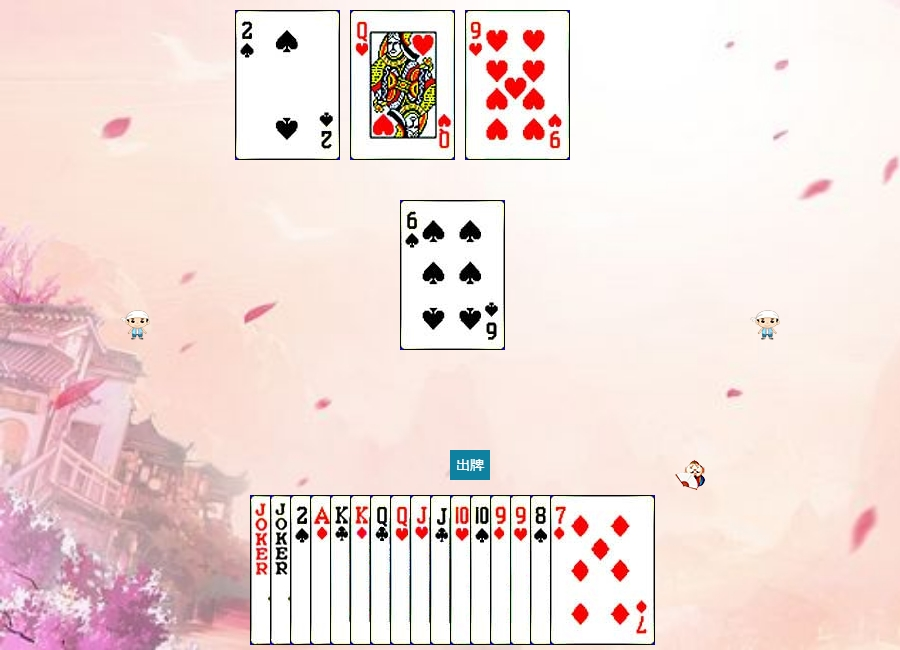10~3: (450, 495, 555, 645)
10~4: (470, 495, 575, 645)
11~2: (430, 495, 535, 645)
11~3: (410, 495, 515, 645)
12~2: (370, 495, 475, 645)
12~3: (350, 10, 455, 160), (390, 495, 495, 645)
13~1: (350, 495, 455, 645)
13~2: (330, 495, 435, 645)
14~1: (310, 495, 415, 645)
15~4: (235, 10, 340, 160), (290, 495, 395, 645)
17~3: (270, 495, 375, 645)
18~4: (250, 495, 355, 645)
6~4: (400, 200, 505, 350)
7~1: (550, 495, 655, 645)
8~4: (530, 495, 635, 645)
9~1: (490, 495, 595, 645)
9~3: (465, 10, 570, 160), (510, 495, 615, 645)
